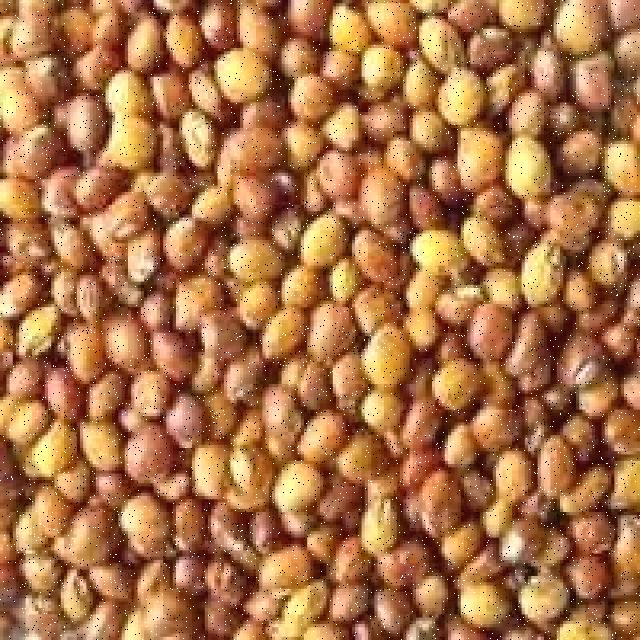NA: (0, 104, 632, 504)
